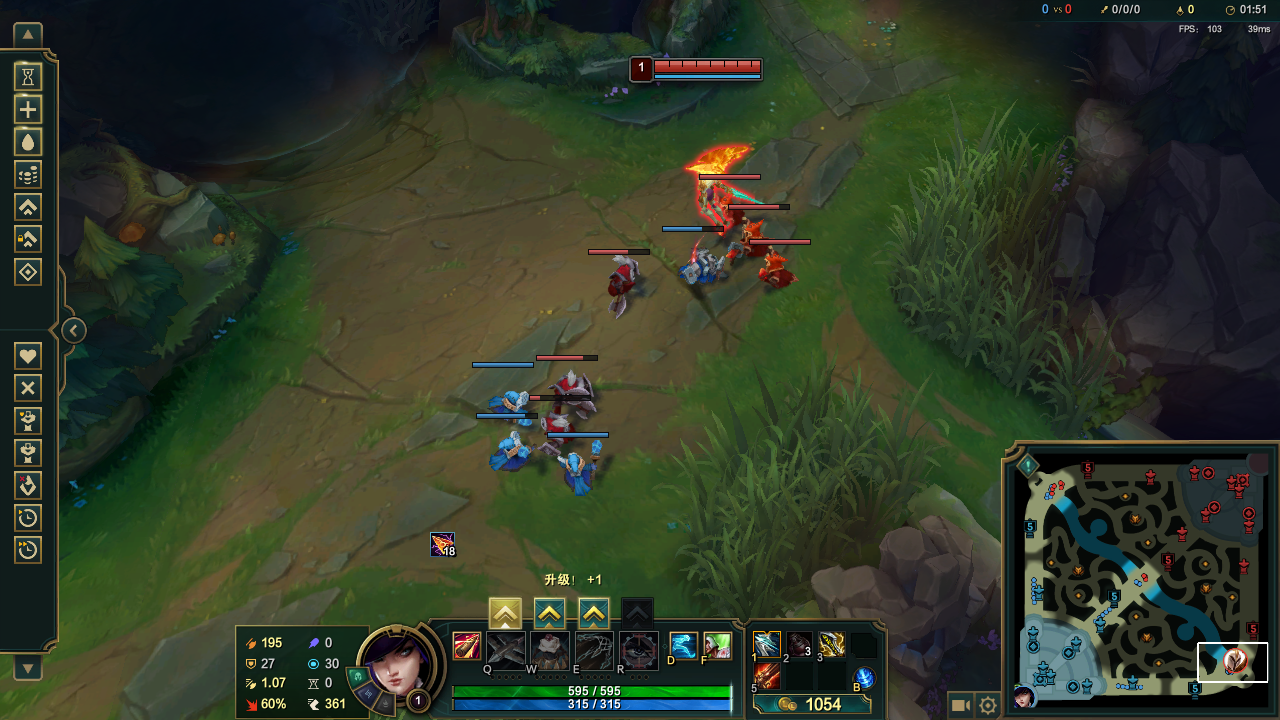DFYX: (650, 61, 764, 79)
